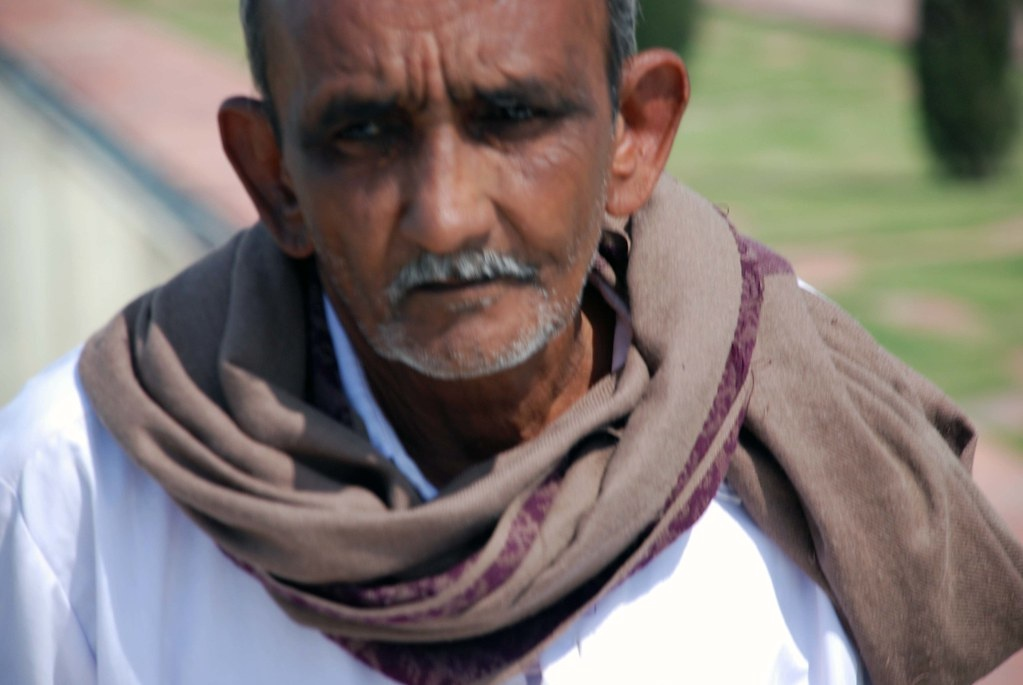without_mask: (230, 3, 658, 368)
